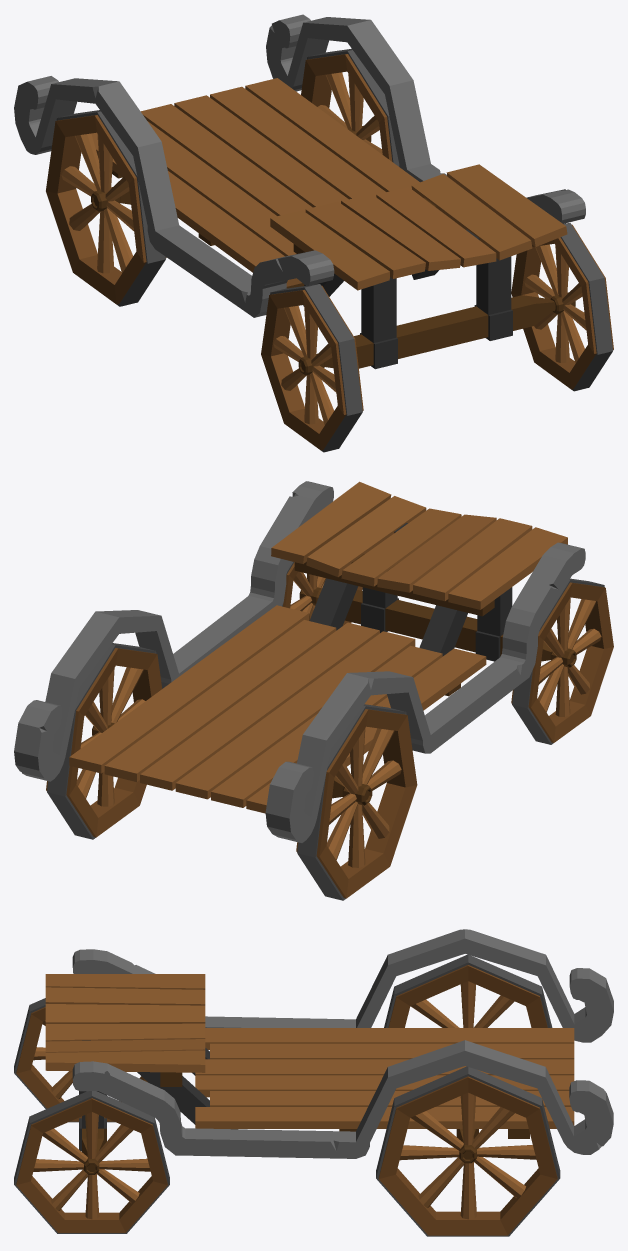
File: C_B_CarriageWood.fbx
The picture shows the model from 3 angles, top to bottom: view 1: azimuth 30°, elevation 25°; view 2: azimuth 150°, elevation 25°; view 3: azimuth 270°, elevation 25°; orthographic projection. The views are drawn at different scales.
Parts seen in each view (by area): view 1: C_B_CarriageWood, C_Wheel, C_Wheel.026, C_Wheel.024, C_Wheel.027; view 2: C_B_CarriageWood, C_Wheel, C_Wheel.026, C_Wheel.027, C_Wheel.024; view 3: C_B_CarriageWood, C_Wheel.027, C_Wheel.024, C_Wheel, C_Wheel.026.
Part boxes in pixels (bbox=[...]): C_B_CarriageWood: bbox=[14, 14, 585, 369]; C_Wheel: bbox=[46, 110, 166, 306]; C_Wheel.026: bbox=[261, 284, 363, 452]; C_Wheel.024: bbox=[511, 223, 613, 391]; C_Wheel.027: bbox=[301, 48, 399, 166]; C_B_CarriageWood: bbox=[14, 481, 585, 842]; C_Wheel: bbox=[296, 704, 417, 900]; C_Wheel.026: bbox=[511, 578, 613, 744]; C_Wheel.027: bbox=[46, 643, 162, 839]; C_Wheel.024: bbox=[282, 561, 362, 625]; C_B_CarriageWood: bbox=[45, 929, 613, 1158]; C_Wheel.027: bbox=[376, 1066, 560, 1236]; C_Wheel.024: bbox=[14, 1091, 169, 1233]; C_Wheel: bbox=[384, 954, 552, 1027]; C_Wheel.026: bbox=[14, 998, 147, 1122].
Size of the model in its own units: 299 by 213 by 617.
